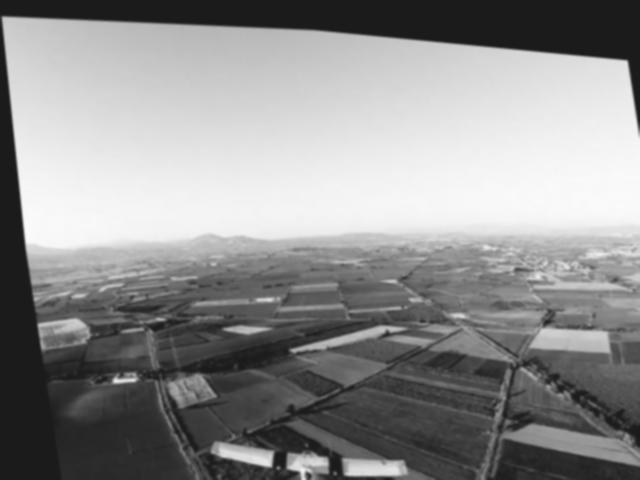hedef: (184, 409, 415, 480)
